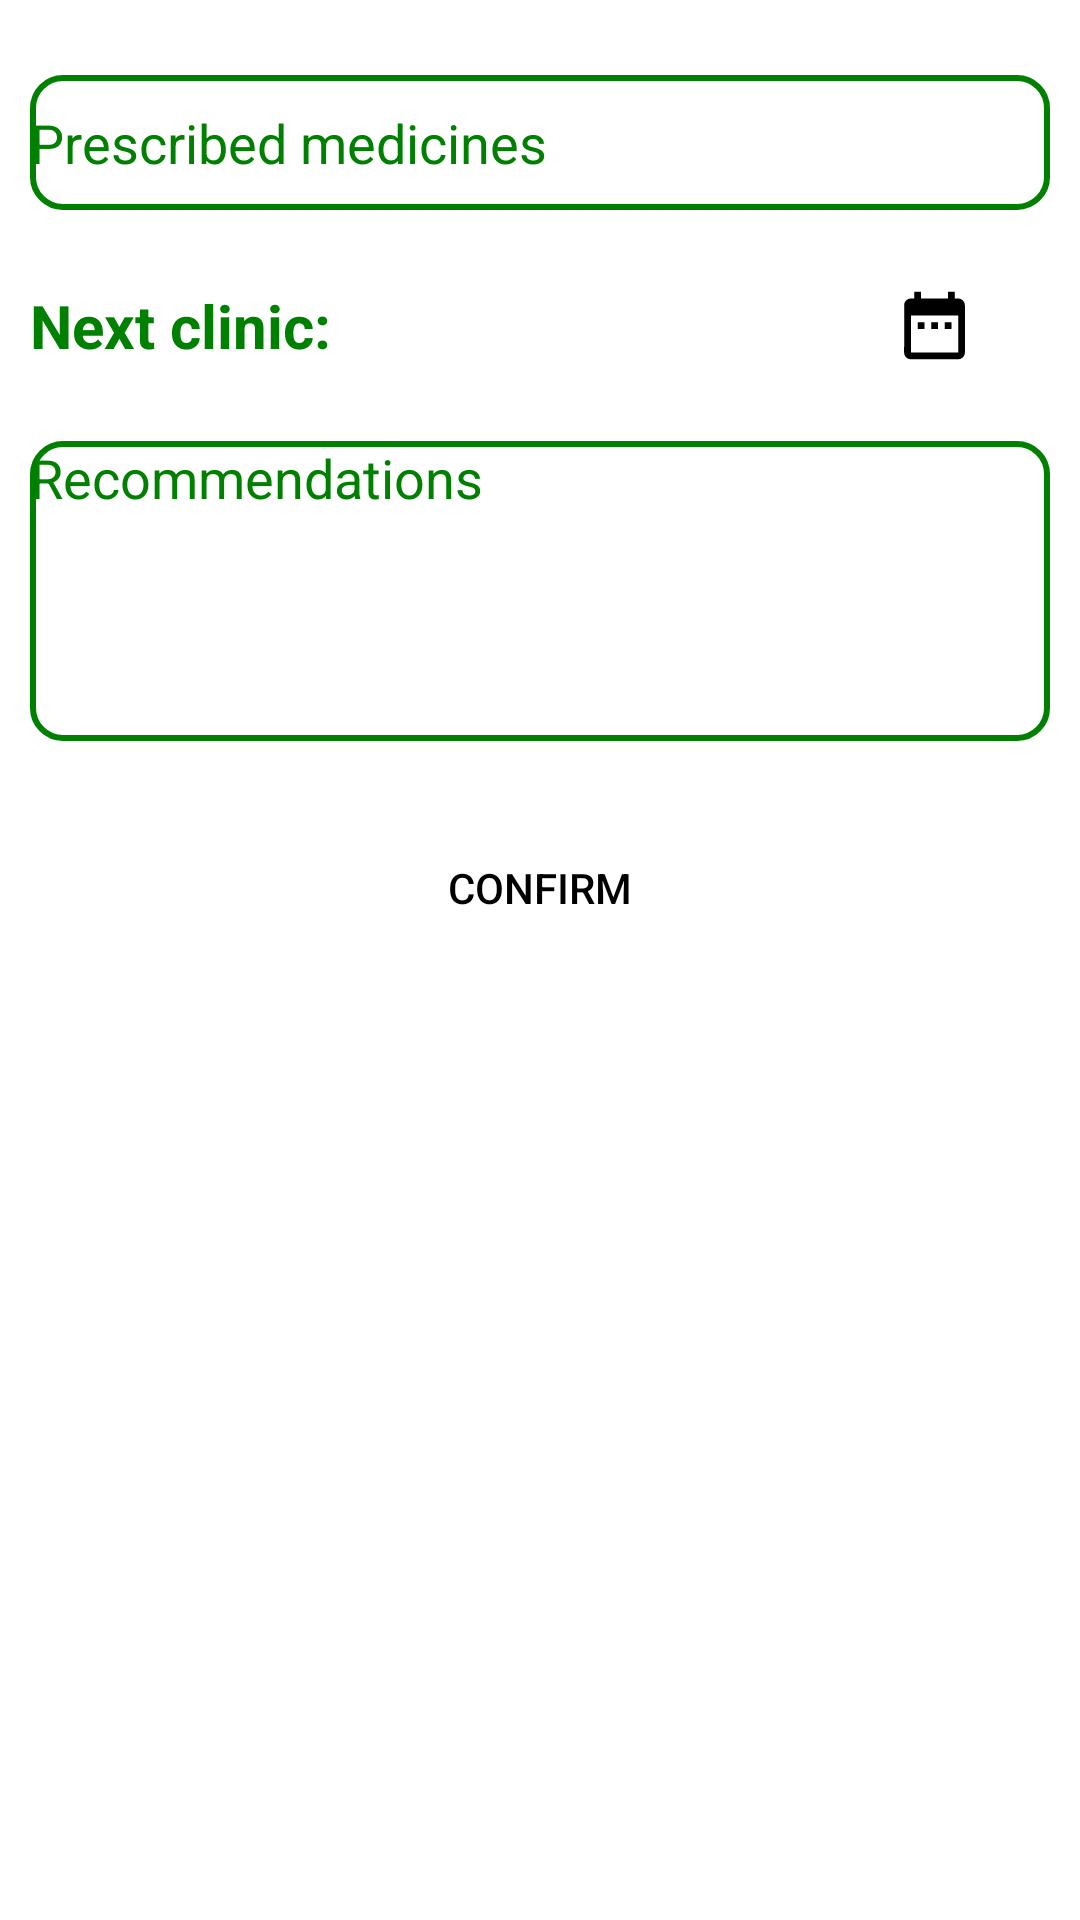

Icon click points for this 1080×1920 phone screenshot, format (x,y):
date: (934,325)
